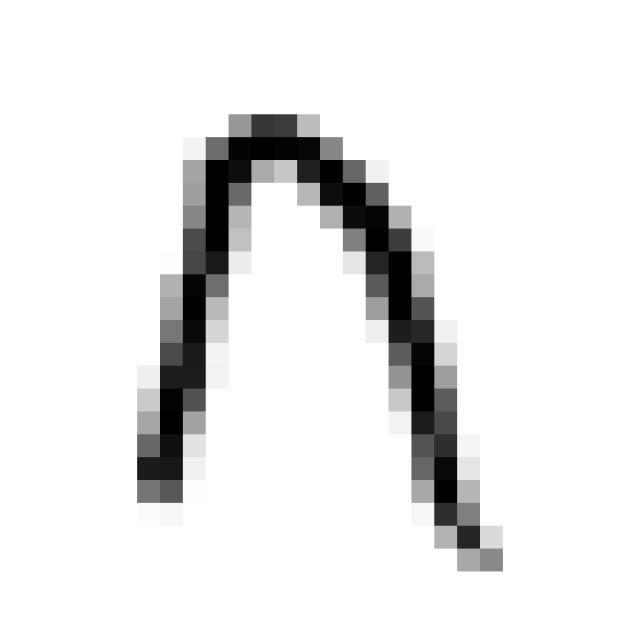8 -eight-: (119, 89, 525, 588)
